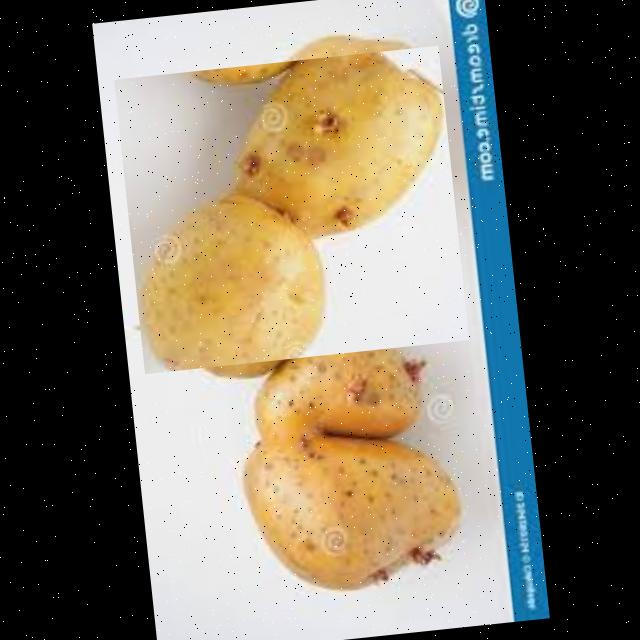Sprouted potato: (114, 45, 468, 372), (220, 316, 472, 606)
